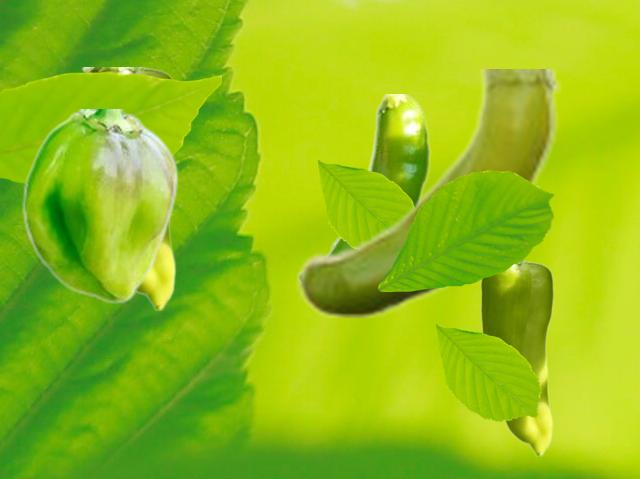green_chili: (295, 69, 560, 316), (22, 109, 178, 303), (81, 67, 175, 309), (326, 94, 430, 251), (480, 261, 552, 455)
